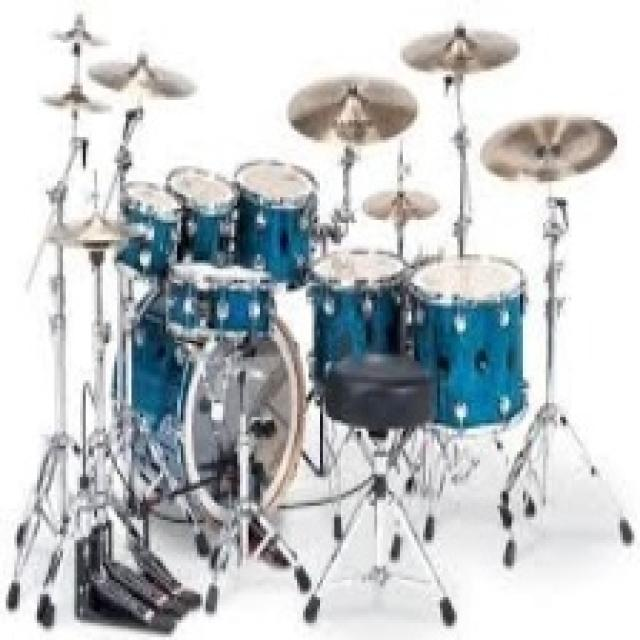drums: (23, 0, 617, 623)
